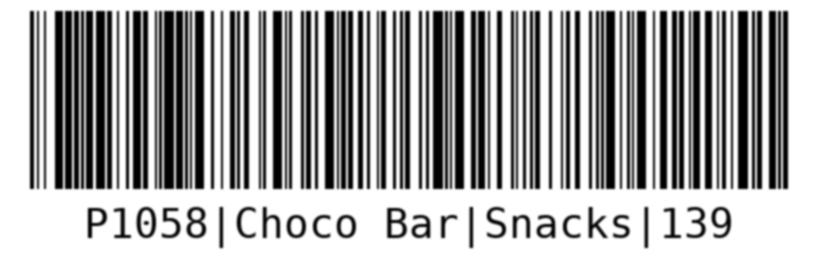milk: (18, 10, 801, 263)
